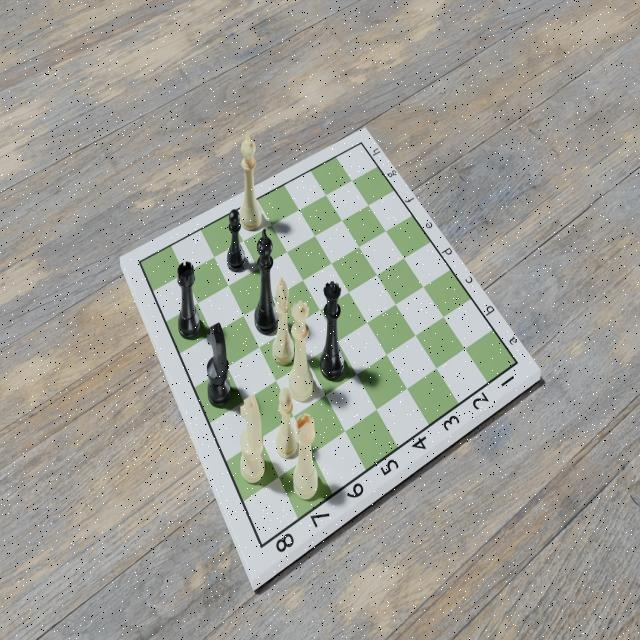black-king: (252, 228, 280, 336)
black-knight: (205, 317, 235, 410)
black-pawn: (224, 206, 247, 274)
black-queen: (318, 278, 346, 382)
black-rook: (175, 257, 201, 340)
white-bishop: (269, 276, 294, 361)
white-king: (236, 130, 264, 238)
white-knight: (237, 390, 268, 486)
white-pawn: (274, 388, 299, 462)
white-queen: (285, 297, 315, 402)
white-rook: (290, 410, 321, 506)
